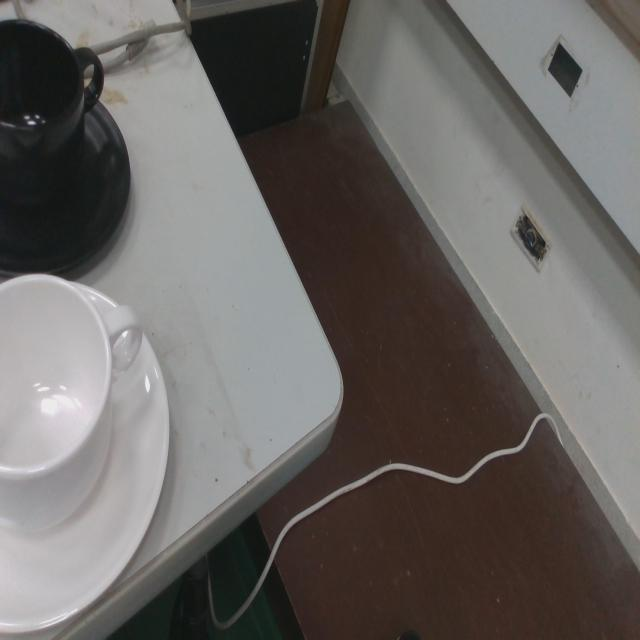black: (0, 14, 133, 277)
white: (0, 269, 173, 640)
